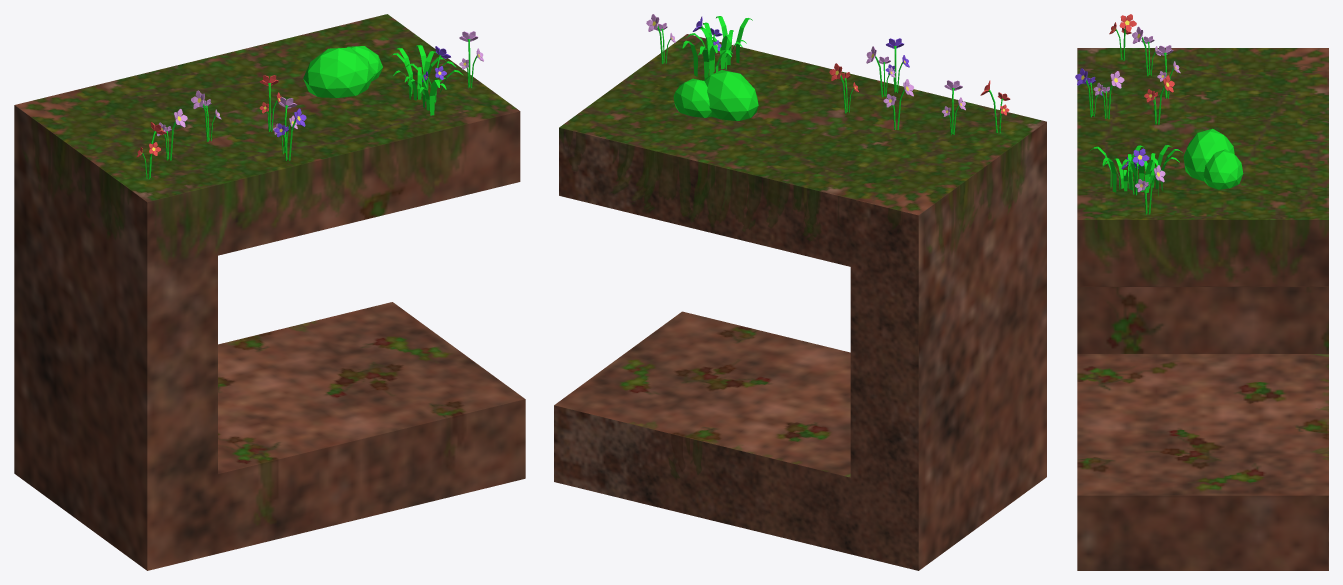
The model's file is base_stuck_002.fbx.
3 renders of one model, left to right at view 1: azimuth 30°, elevation 25°; view 2: azimuth 150°, elevation 25°; view 3: azimuth 270°, elevation 25°, orthographic. The views are drawn at different scales.
Visible parts, largest first — view 1: base_under.002; view 2: base_under.002; view 3: base_under.002.
Boxes of the visible parts, x1=… form: base_under.002: x1=14, y1=14, x2=525, y2=570; base_under.002: x1=554, y1=14, x2=1046, y2=570; base_under.002: x1=1075, y1=14, x2=1328, y2=570.
Bounding box in the file's own units: 5.4 × 5.73 × 3.32.
